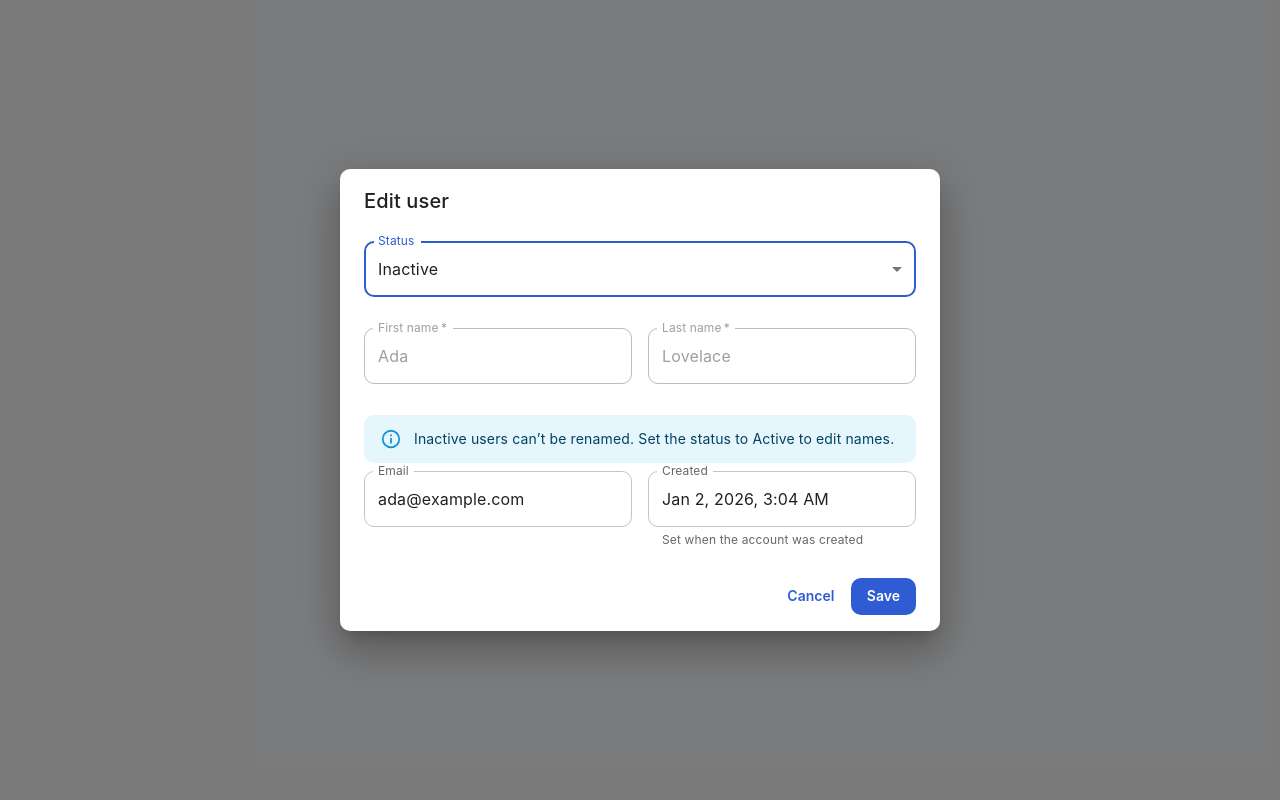
Test: EditUserDialog (T7.5, C5) › disables names for an INACTIVE user and re-enables them live when set to Active
The image size is (1280, 800).
Expected: the field labelled "First name *" is disabled, [364,328,632,384]
Expected: the field labelled "Last name *" is disabled, [648,328,916,384]
Click the dropdown named "status": (408, 269) [378,259,438,279]
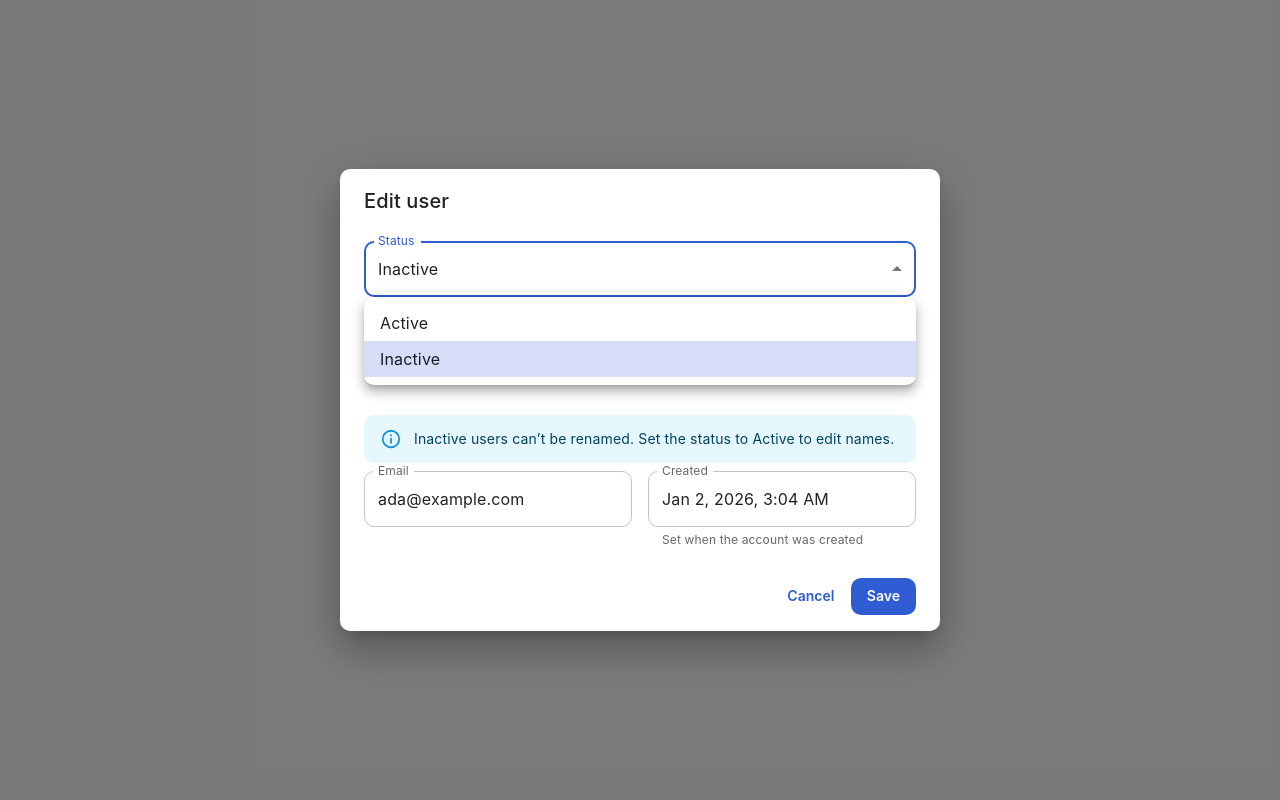
Click the option "Active": (404, 323) [380,313,428,333]
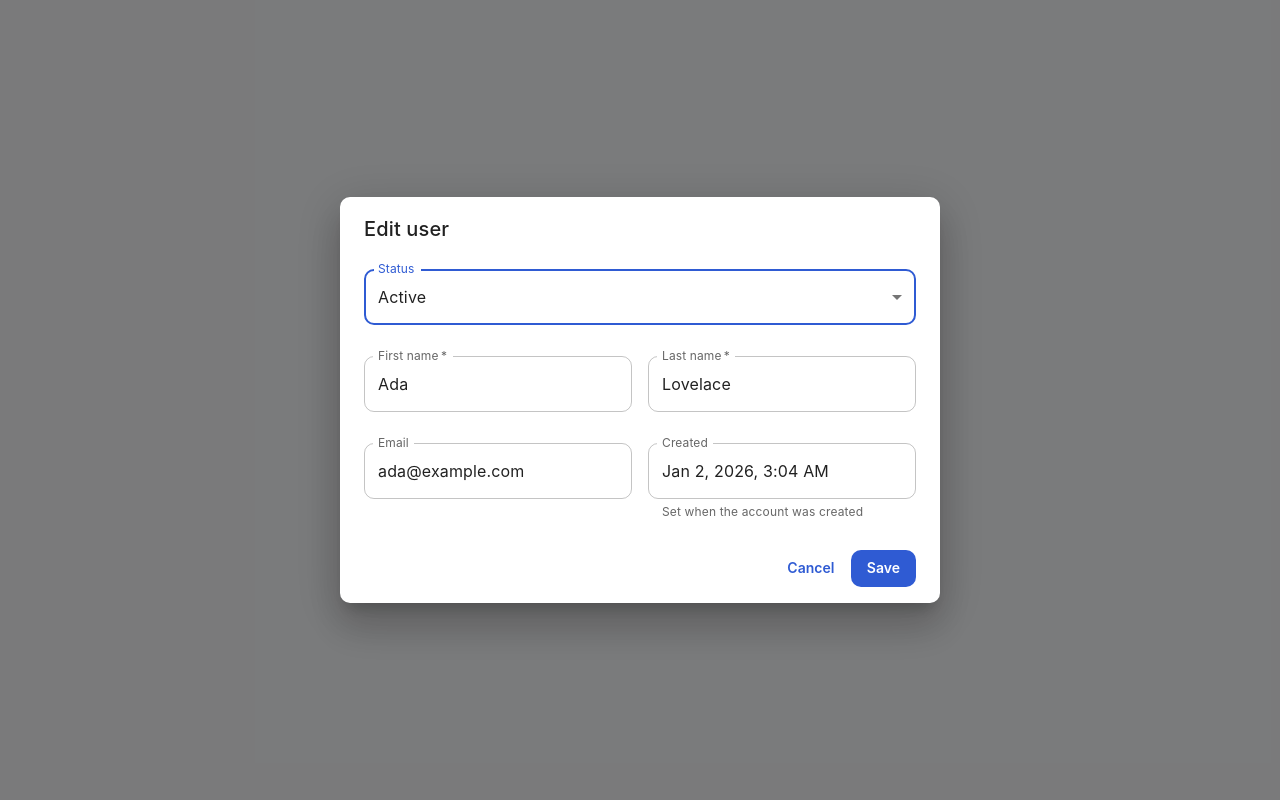
Expected: the field labelled "First name *" is enabled, [364,356,632,412]
Expected: the field labelled "Last name *" is enabled, [648,356,916,412]
Expected: the text "can’t be renamed" is gone
